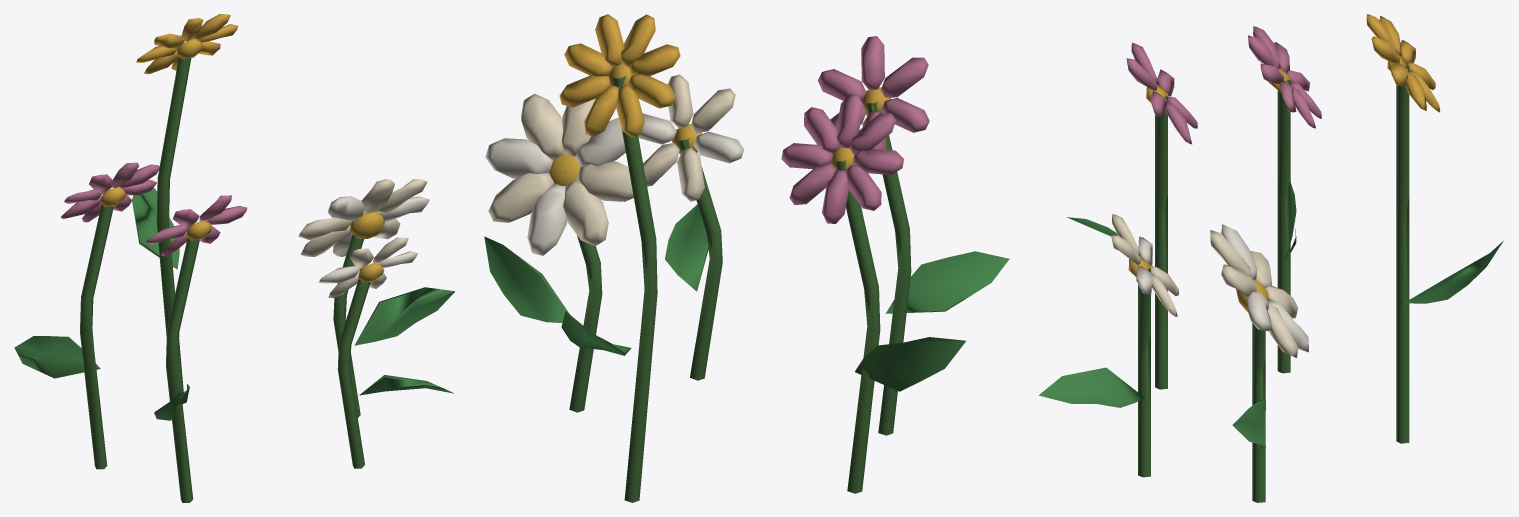
Rendered from flores_pradera_lod.glb.
3 renders of one model, left to right at view 1: azimuth 30°, elevation 25°; view 2: azimuth 150°, elevation 25°; view 3: azimuth 270°, elevation 25°, orthographic. The views are drawn at different scales.
Parts seen in each view (by area): view 1: flores_pradera_tallos_0; view 2: flores_pradera_tallos_0; view 3: flores_pradera_tallos_0.
Boxes of the visible parts, x1,y1,x2,y2 form: flores_pradera_tallos_0: (14, 14, 454, 502); flores_pradera_tallos_0: (484, 14, 1009, 502); flores_pradera_tallos_0: (1038, 14, 1503, 502).
Bounding box in the file's own units: 0.5176 × 0.4579 × 0.4521.
